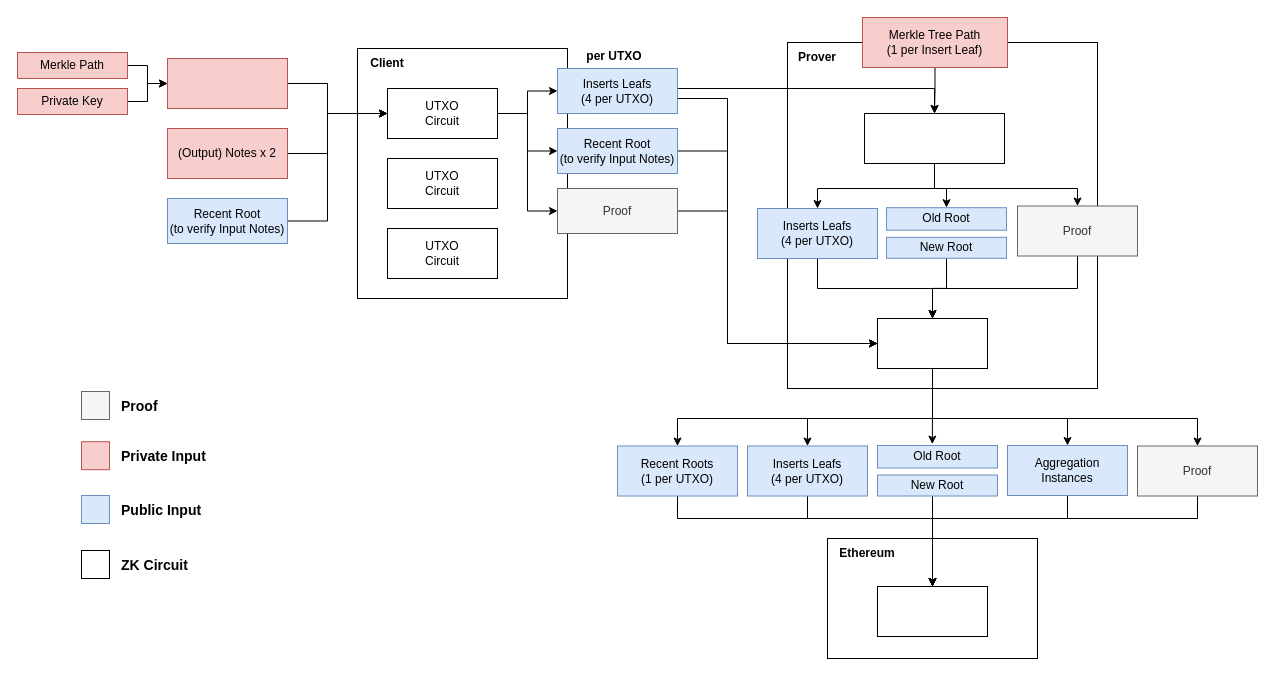
Image size: 1275x676. Some labels were removed from this diagram. Here are the shapes that lost their labels. From the top down, the centre of each, then its label:
the point at 227,83: (Input) Notes x2
the point at 934,138: Insert Circuit
the point at 932,343: Aggregation Circuit
the point at 932,611: Verify Aggregation Circuit Proof
